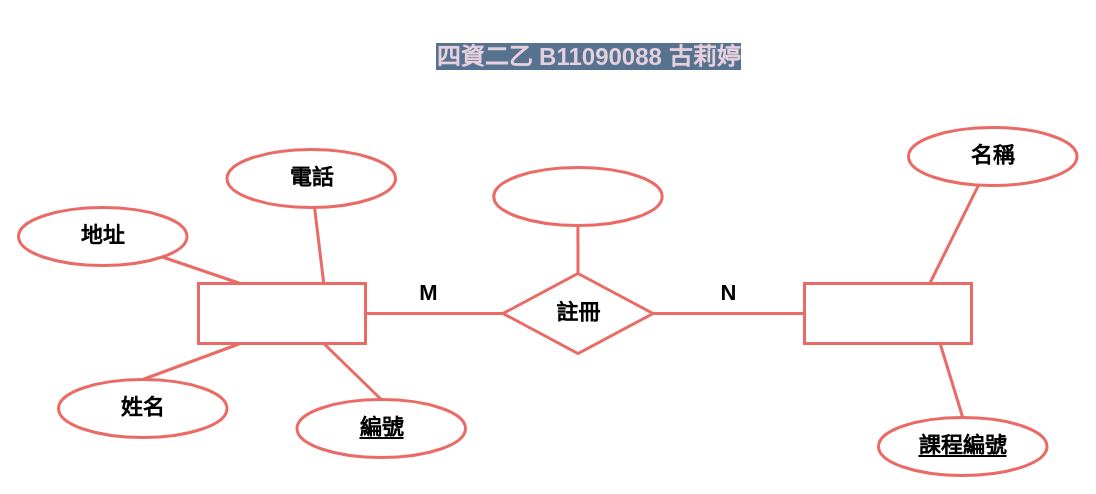
Some shapes in this 1096 by 494 pixel diagram are drawn without their labels. The centre of each missing label's shape, as x and y in pixels:
成績: [577,196]
教授學生: [281,313]
課程: [887,313]
